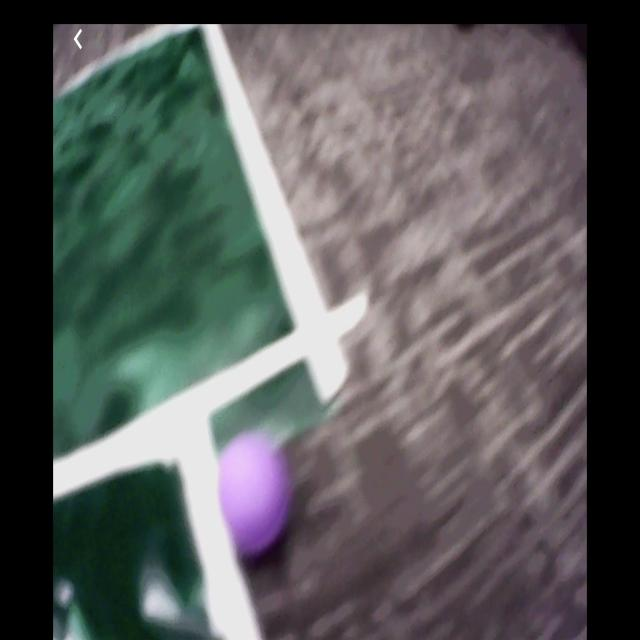ball: (212, 435, 293, 553)
